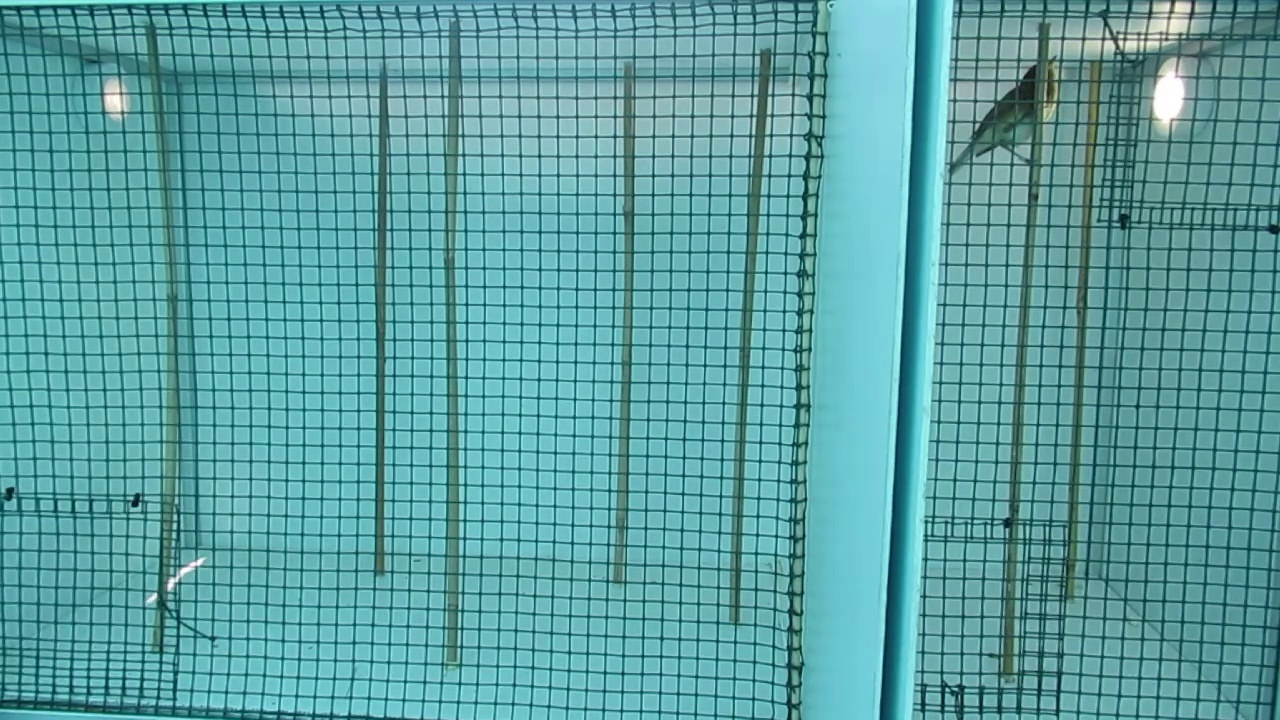bird: (949, 53, 1061, 176)
stick: (994, 25, 1055, 684), (721, 50, 775, 627), (1056, 63, 1103, 605), (140, 24, 179, 649), (605, 57, 640, 587), (438, 16, 465, 663), (368, 64, 390, 578)
